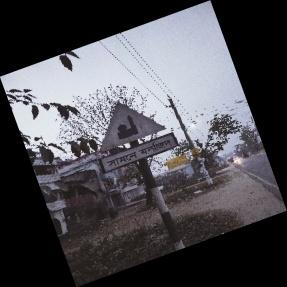Mosque in front: (93, 98, 180, 177)
